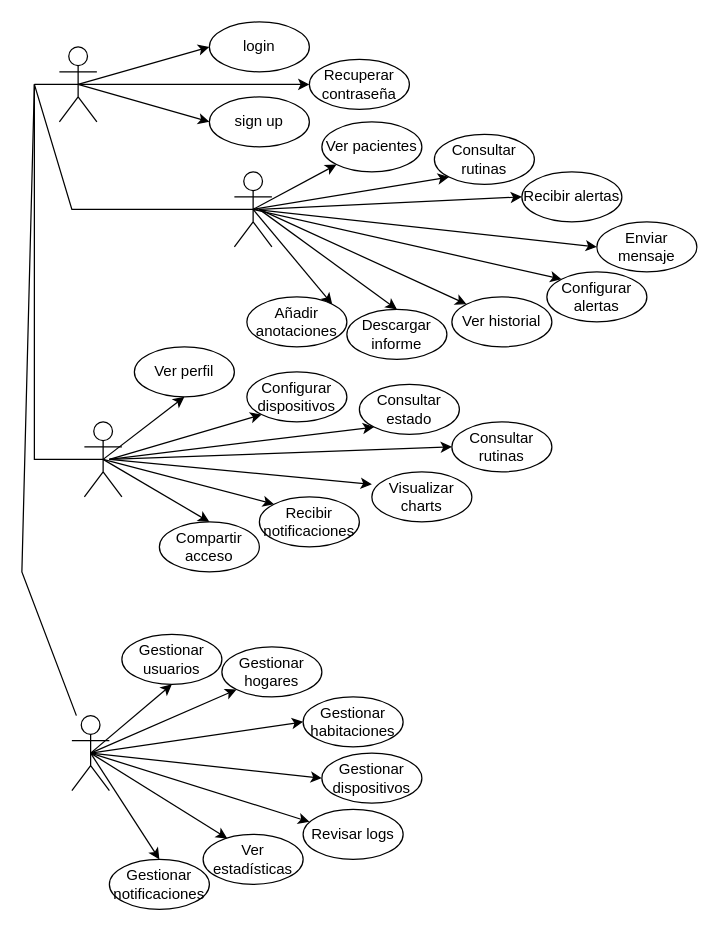
Image size: 719x931. Some labels were removed from this diagram. Here are the shapes that lost their labels. From the top down, the centre of each, then its label:
point (77, 84): Usuario
point (252, 209): Médico
point (102, 459): Habitante/Familiar
point (90, 752): admin
